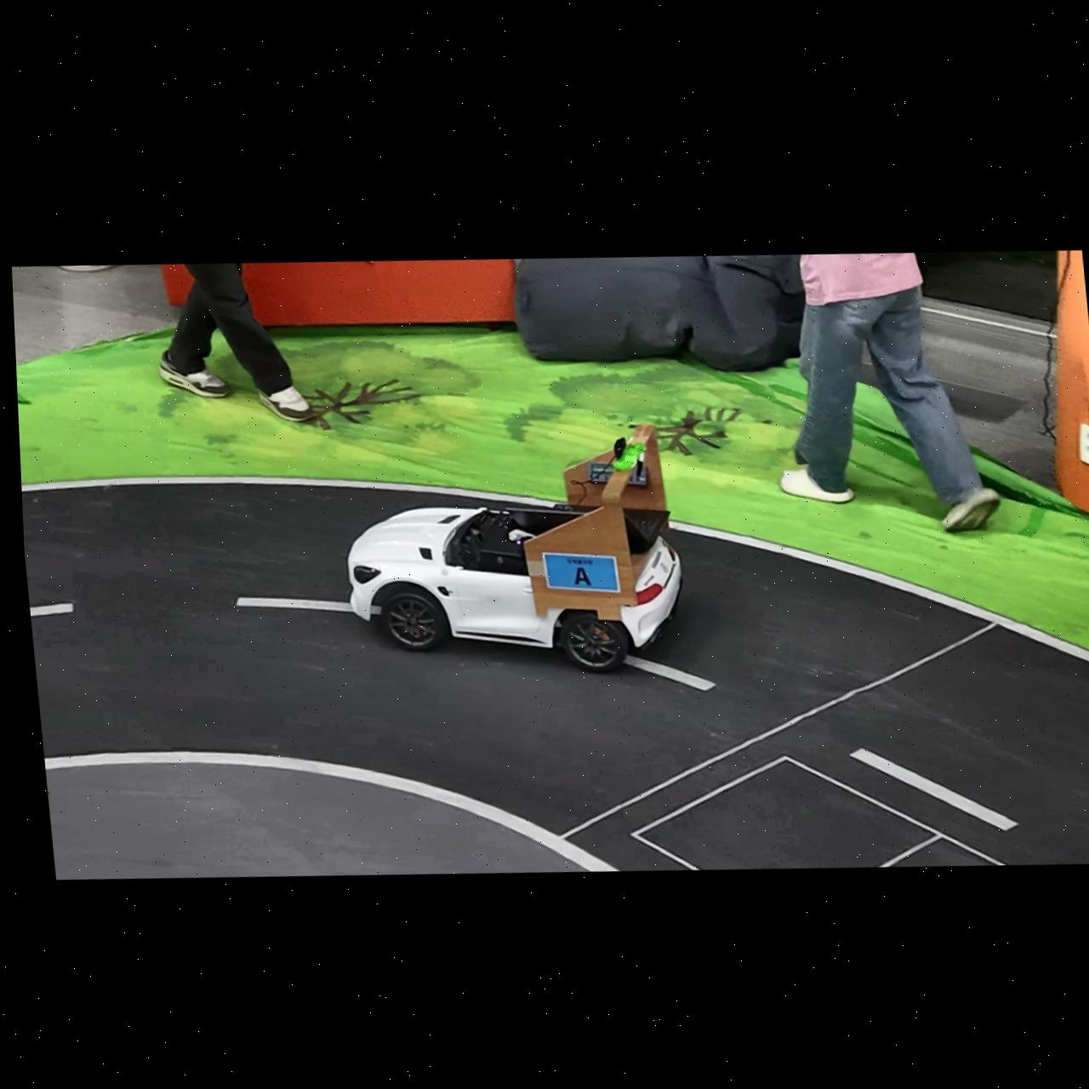broken_line: (850, 748, 1016, 830), (624, 655, 714, 690), (235, 596, 353, 611), (29, 603, 73, 616), (371, 606, 380, 614)
